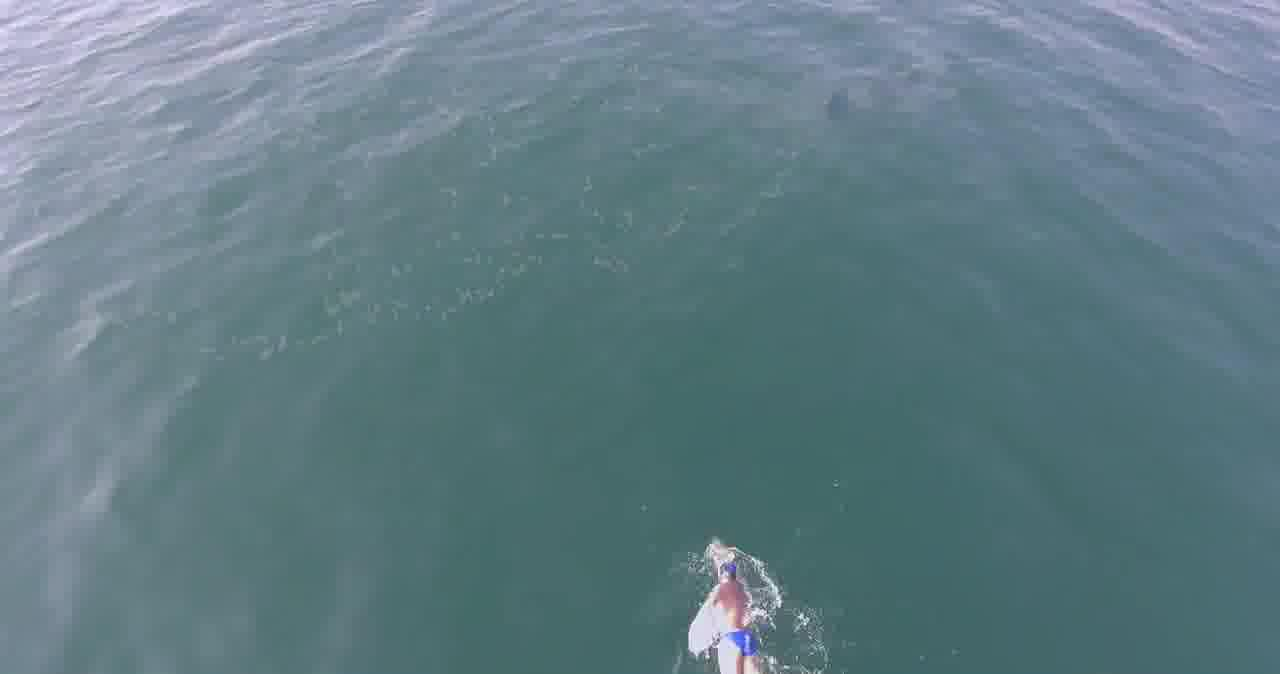swimmer: (674, 533, 782, 673)
